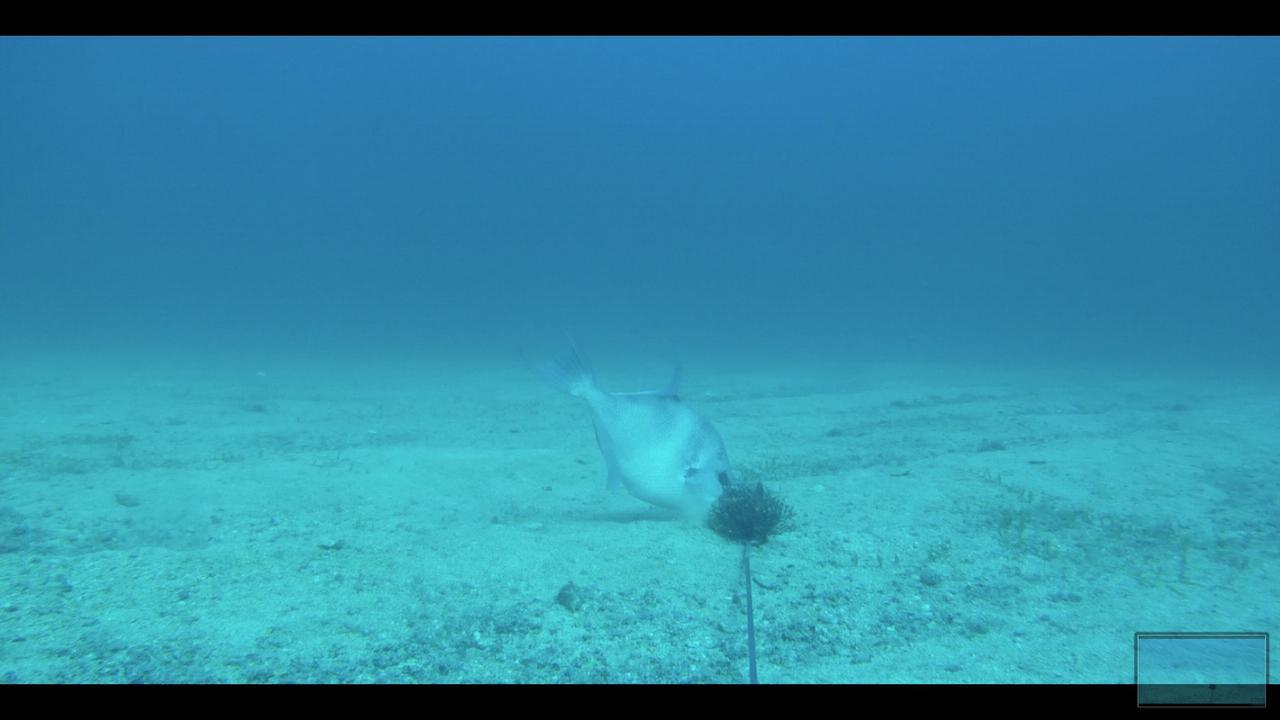balistes: (523, 328, 742, 529)
